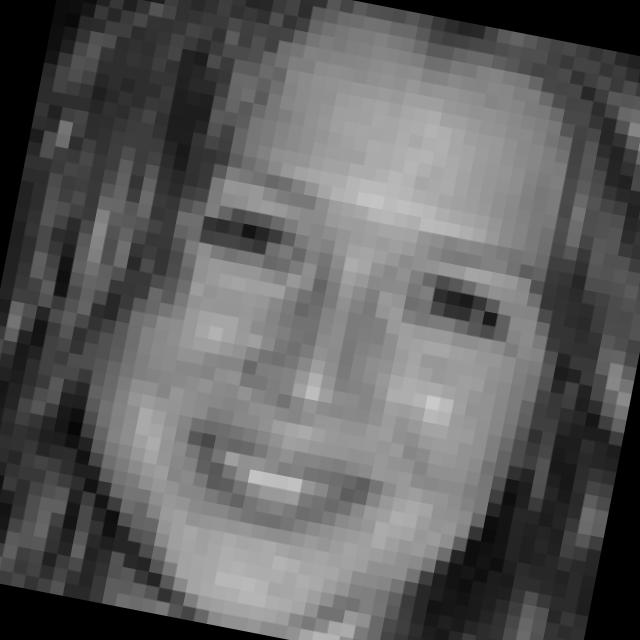happy: (96, 135, 562, 590)
